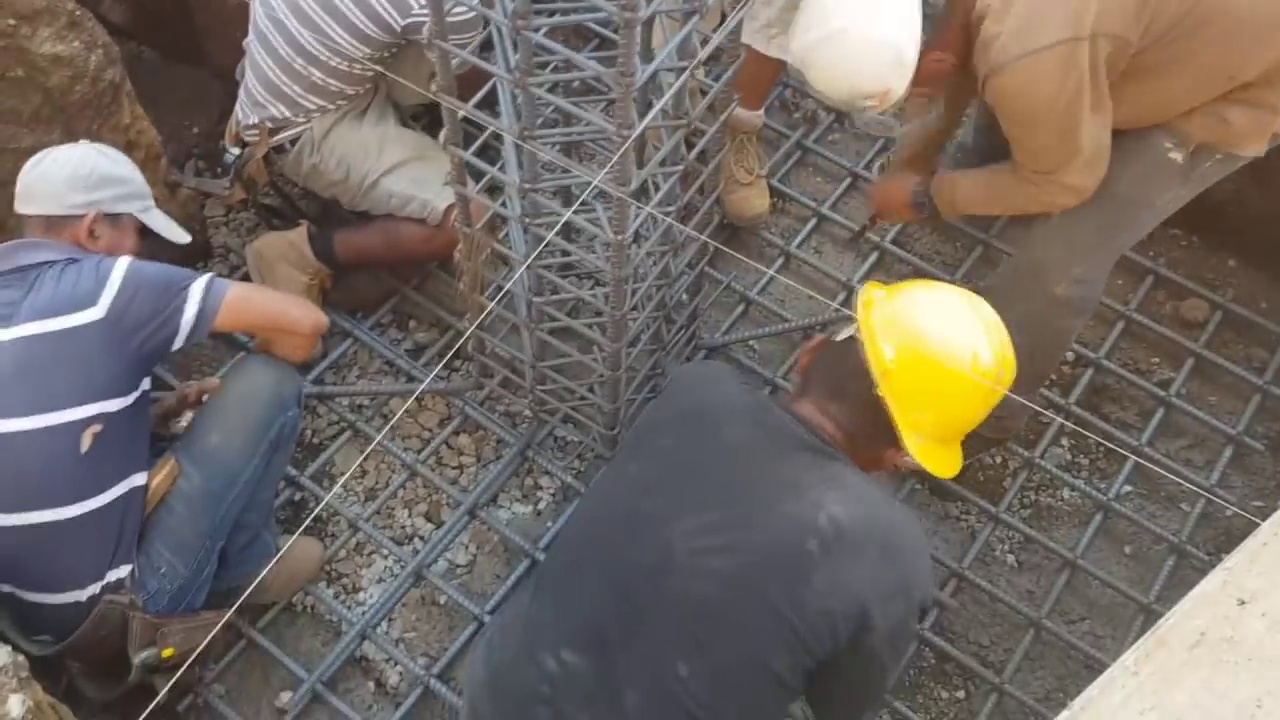helmet: (861, 278, 1023, 483), (785, 8, 923, 119)
helmet-off: (5, 140, 171, 271)
helmet-on: (795, 282, 1023, 481), (789, 4, 990, 131)
person: (430, 278, 1022, 720), (799, 0, 1279, 455), (0, 137, 330, 685), (233, 6, 499, 305), (636, 0, 794, 230)
